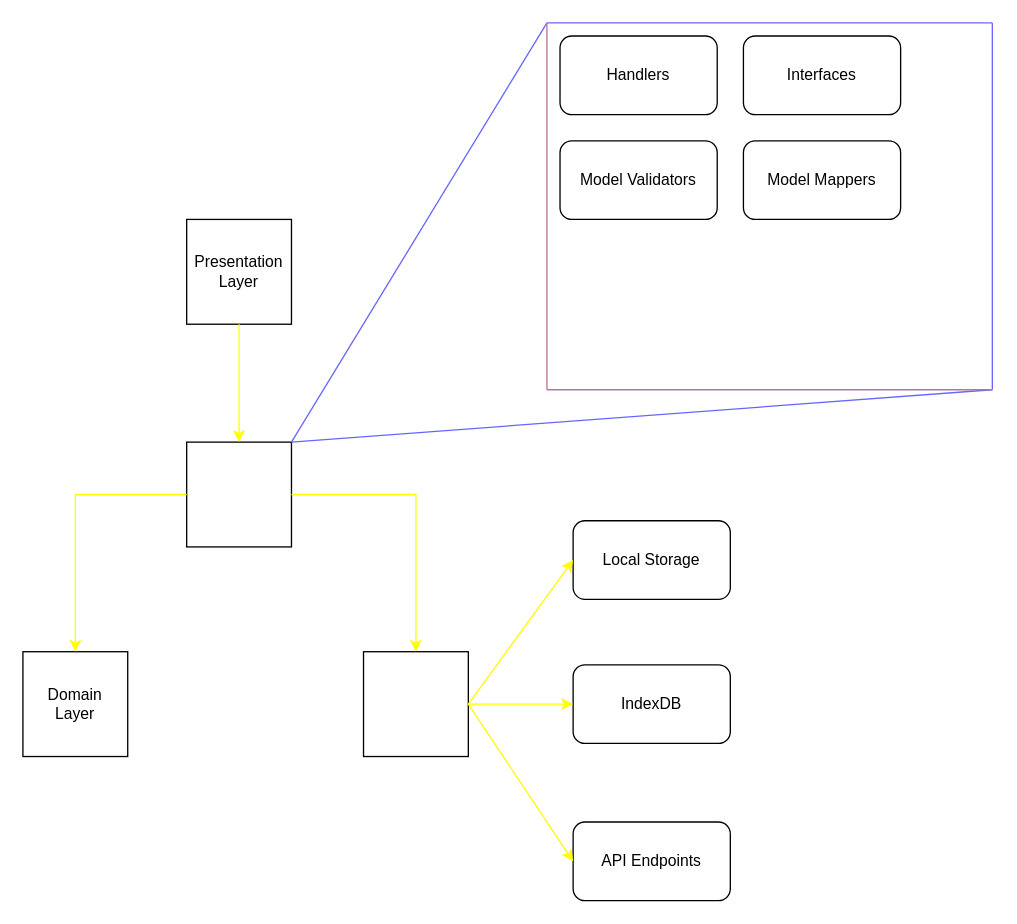
Image size: 1017x924. Some labels were removed from this diagram. The box of each missing label's shape, as (x1, y1, x2, y2) in pixels:
Application Layer: (185, 441, 291, 547)
State Management ------------ API Layer: (362, 650, 468, 757)
